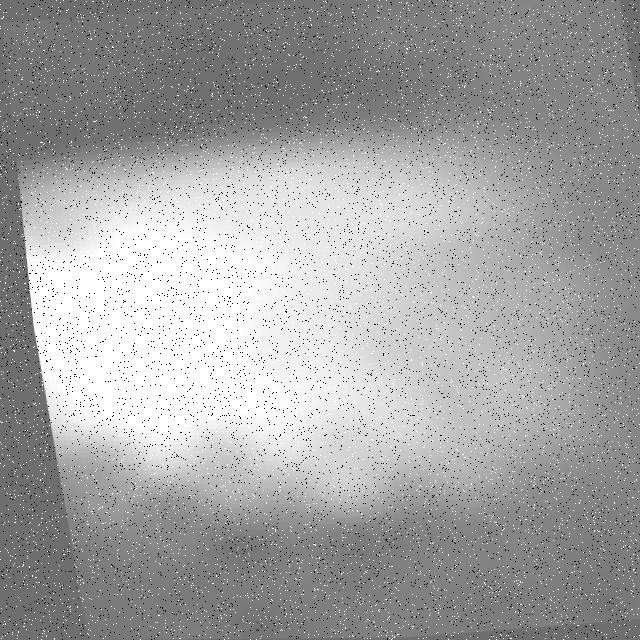person: (8, 87, 627, 543)
